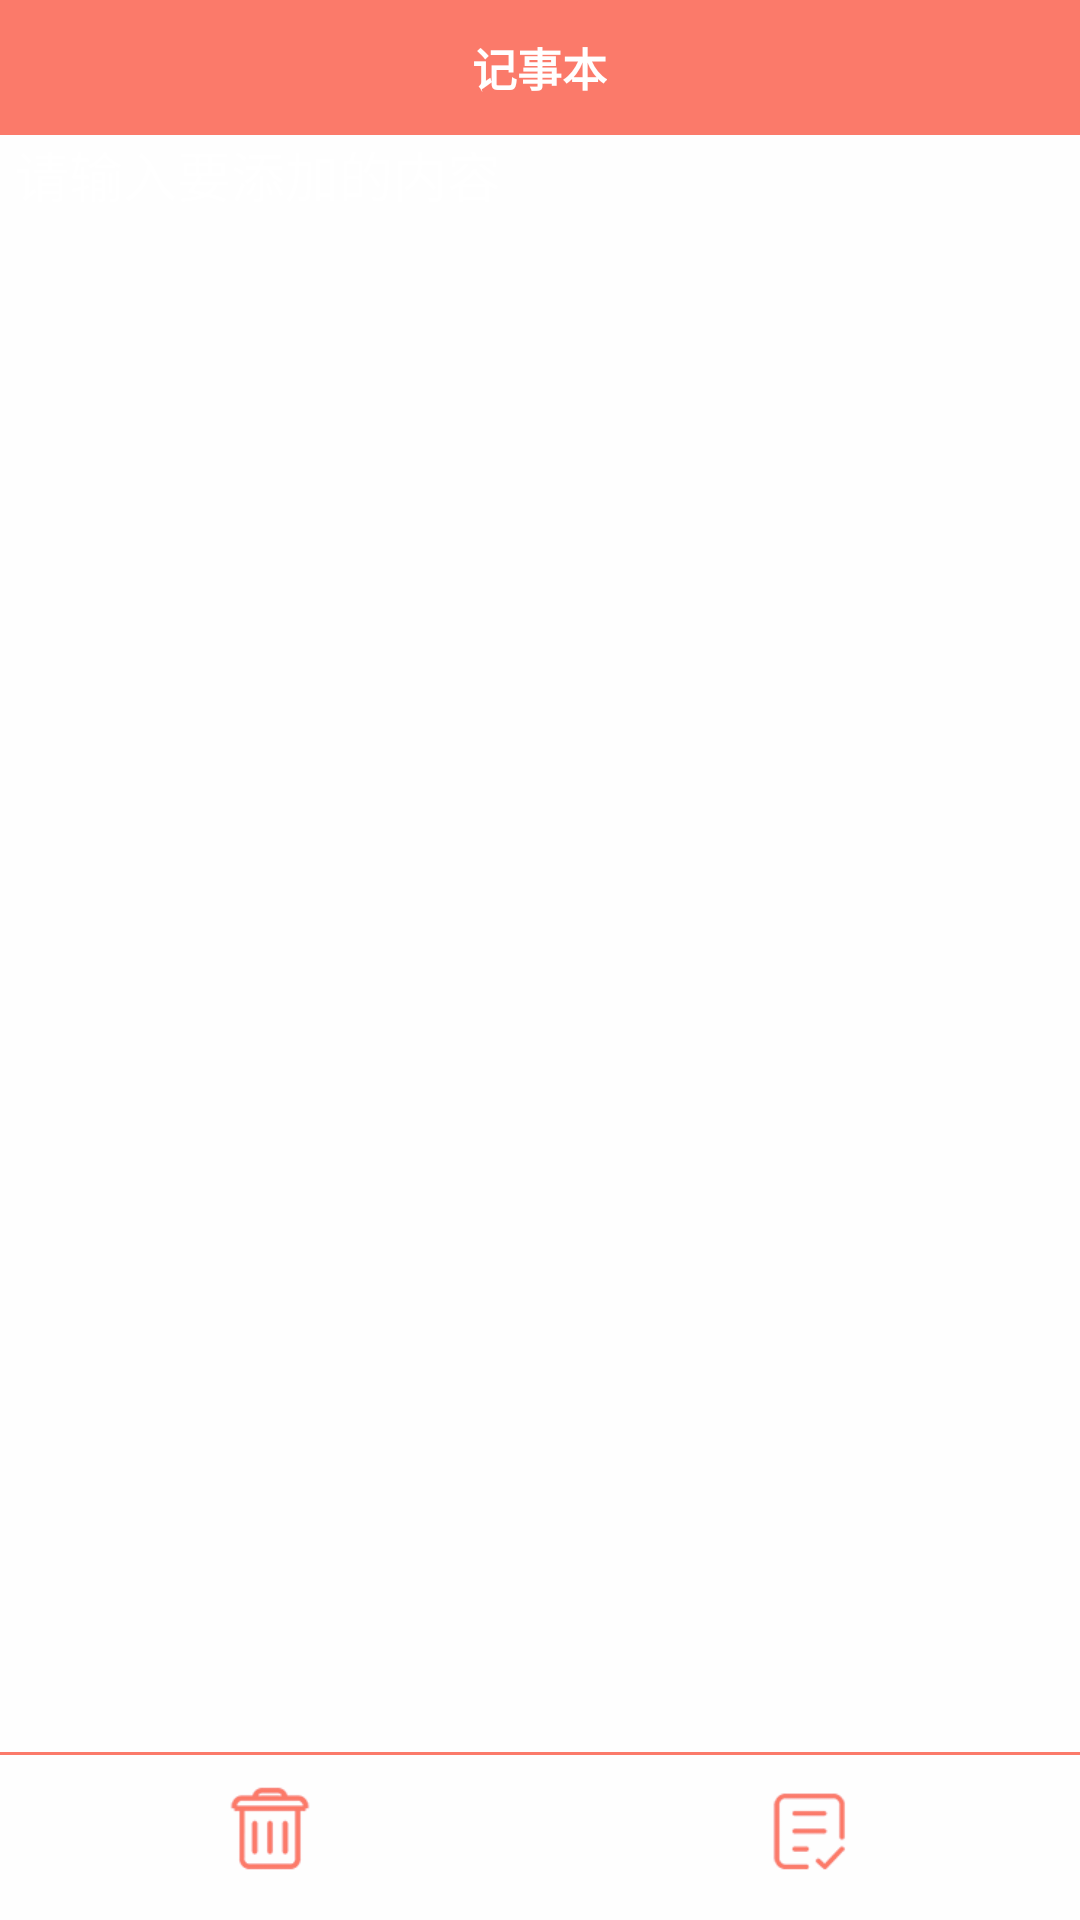

Icons on this 1080×1920 Android screen, each with its box as (x1, y1, x2, y2):
delete: (231, 1787, 309, 1870)
save note: (773, 1793, 845, 1870)
